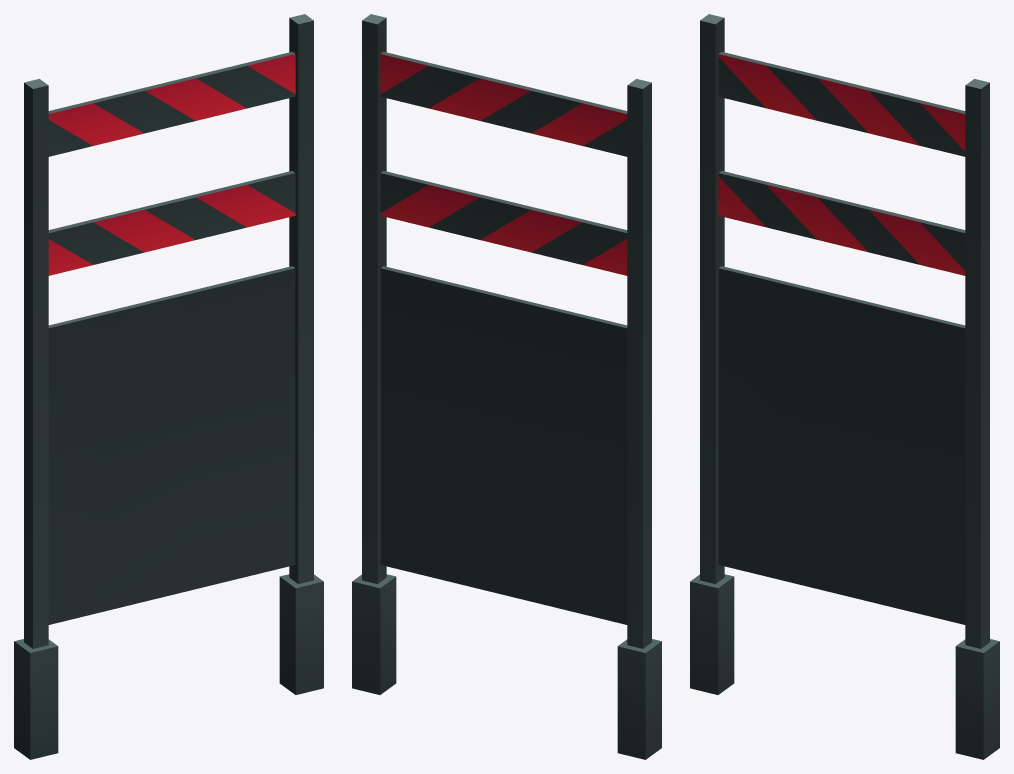
File: Industrial_Fence_1B.fbx
3 views of the same model, side by side, from view 1: azimuth 30°, elevation 25°; view 2: azimuth 150°, elevation 25°; view 3: azimuth 330°, elevation 25° (orthographic).
Parts seen in each view (by area): view 1: Industrial_Fence_1B; view 2: Industrial_Fence_1B; view 3: Industrial_Fence_1B.
Part boxes in pixels (x1=…): Industrial_Fence_1B: x1=14, y1=14, x2=323, y2=759; Industrial_Fence_1B: x1=352, y1=14, x2=661, y2=759; Industrial_Fence_1B: x1=690, y1=14, x2=999, y2=759.
Size of the model in its own units: 193 by 420 by 18.49.
